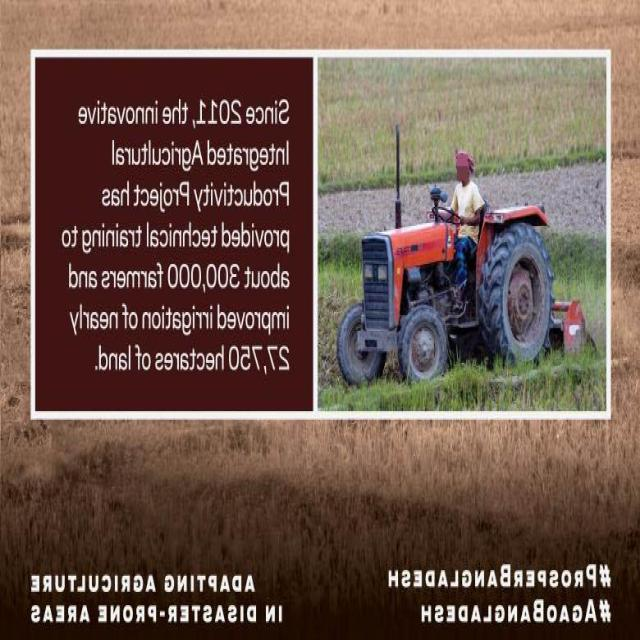Tratores - v5 YOLO V8L 2024-11-13: (337, 118, 588, 388)
